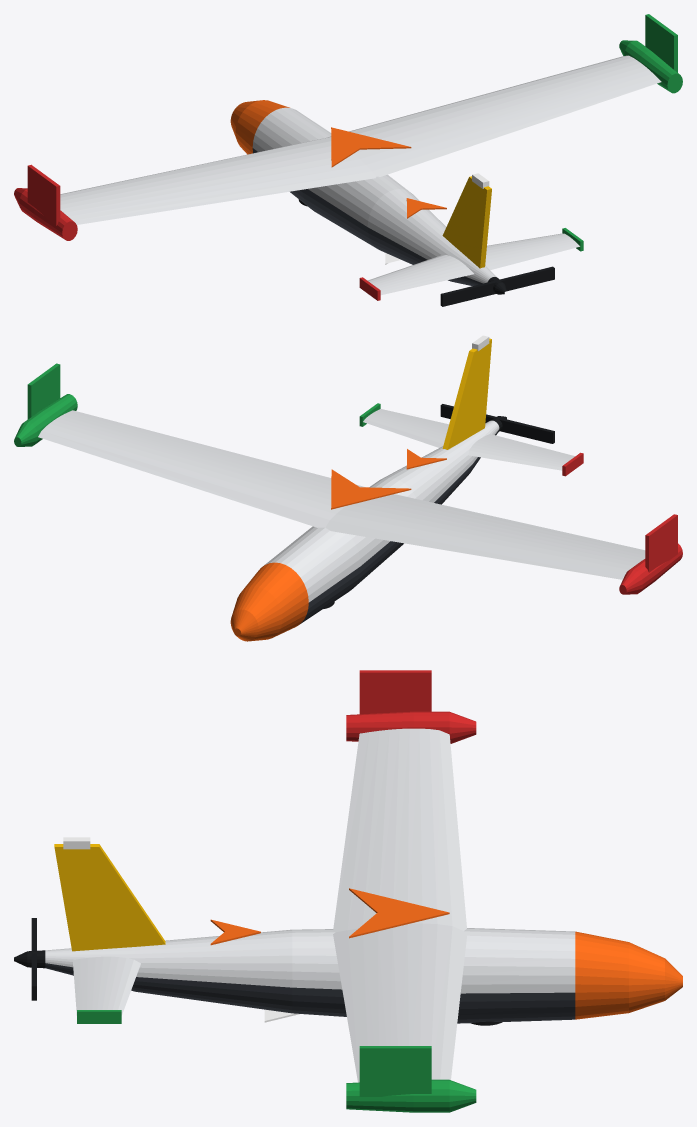
Rendered from drone_fixed_wing.glb.
3 views of the same model, one above another, from view 1: azimuth 30°, elevation 25°; view 2: azimuth 150°, elevation 25°; view 3: azimuth 270°, elevation 25° (orthographic). The views are drawn at different scales.
Parts seen in each view (by area): view 1: Wing_Starboard_Top, Wing_Port_Top, Fuselage_Top, VerticalFin_Yellow, Fuselage_Bottom, HStab_Port_Top, HStab_Starboard_Top, Propeller, Nose_Orange, Winglet_Port, WingtipPod_Starboard, TopChevron_Orange (+2 smaller); view 2: Wing_Starboard_Top, Wing_Port_Top, Fuselage_Top, Nose_Orange, VerticalFin_Yellow, HStab_Port_Top, Fuselage_Bottom, HStab_Starboard_Top, Winglet_Port, WingtipPod_Starboard, TopChevron_Orange, Winglet_Starboard (+2 smaller); view 3: Wing_Port_Top, Fuselage_Top, Wing_Starboard_Top, Fuselage_Bottom, VerticalFin_Yellow, Nose_Orange, Winglet_Starboard, Winglet_Port, HStab_Starboard_Top, WingtipPod_Starboard, WingtipPod_Port, TopChevron_Orange.
Part boxes in pixels (left/top/right/bottom): Wing_Starboard_Top: left=327, top=55, right=661, bottom=176; Wing_Port_Top: left=60, top=137, right=376, bottom=224; Fuselage_Top: left=252, top=107, right=496, bottom=283; VerticalFin_Yellow: left=442, top=176, right=491, bottom=268; Fuselage_Bottom: left=252, top=148, right=482, bottom=285; HStab_Port_Top: left=367, top=255, right=473, bottom=295; HStab_Starboard_Top: left=485, top=233, right=579, bottom=270; Propeller: left=440, top=266, right=554, bottom=306; Nose_Orange: left=230, top=100, right=289, bottom=154; Winglet_Port: left=27, top=164, right=60, bottom=225; WingtipPod_Starboard: left=619, top=40, right=682, bottom=93; TopChevron_Orange: left=331, top=127, right=411, bottom=167; Wing_Starboard_Top: left=38, top=410, right=365, bottom=527; Wing_Port_Top: left=325, top=494, right=645, bottom=579; Fuselage_Top: left=264, top=420, right=499, bottom=602; Nose_Orange: left=230, top=562, right=308, bottom=641; VerticalFin_Yellow: left=442, top=338, right=491, bottom=449; HStab_Port_Top: left=468, top=434, right=574, bottom=470; Fuselage_Bottom: left=299, top=429, right=499, bottom=624; HStab_Starboard_Top: left=363, top=409, right=448, bottom=447; Winglet_Port: left=645, top=514, right=677, bottom=572; WingtipPod_Starboard: left=14, top=394, right=77, bottom=446; TopChevron_Orange: left=331, top=469, right=411, bottom=509; Winglet_Starboard: left=27, top=363, right=60, bottom=419; Wing_Port_Top: left=333, top=728, right=466, bottom=932; Fuselage_Top: left=45, top=928, right=575, bottom=993; Wing_Starboard_Top: left=333, top=923, right=466, bottom=1082; Fuselage_Bottom: left=45, top=963, right=575, bottom=1023; VerticalFin_Yellow: left=54, top=844, right=165, bottom=951; Nose_Orange: left=575, top=931, right=682, bottom=1019; Winglet_Starboard: left=359, top=1046, right=431, bottom=1096; Winglet_Port: left=359, top=670, right=431, bottom=714; HStab_Starboard_Top: left=72, top=956, right=140, bottom=1015; WingtipPod_Starboard: left=346, top=1079, right=476, bottom=1112; WingtipPod_Port: left=346, top=711, right=476, bottom=743; TopChevron_Orange: left=349, top=888, right=449, bottom=938.
Bounding box in the file's own units: 2 × 0.445 × 1.49.
